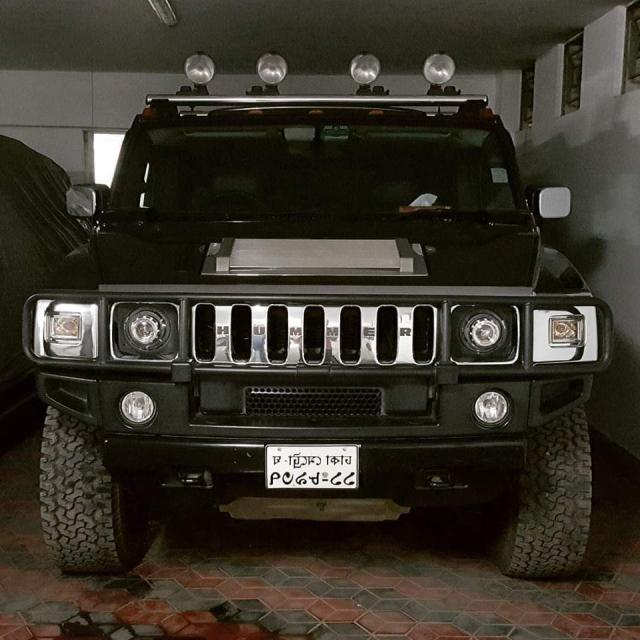numberplate: (264, 442, 361, 490)
